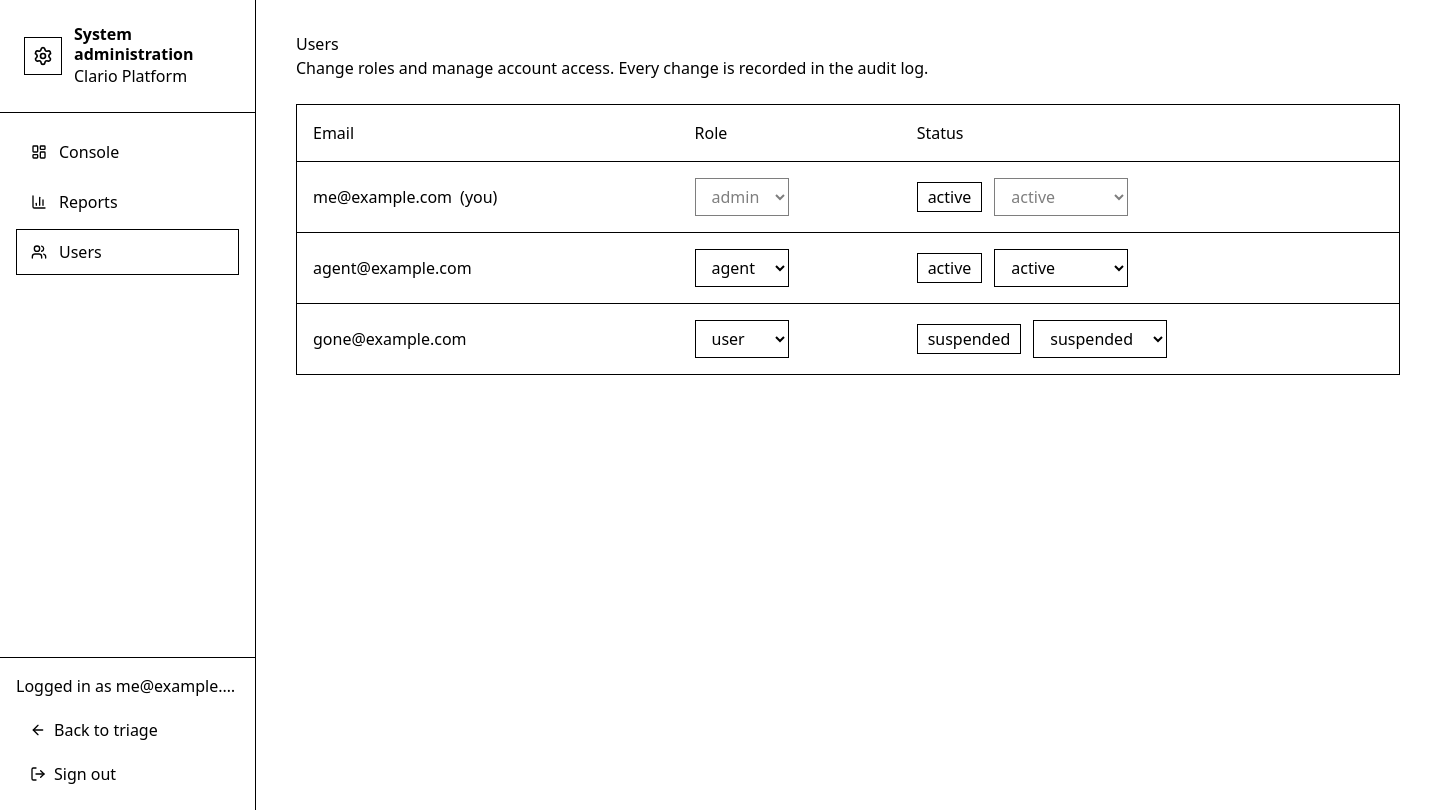
Test case: Admin users page (FR-042 / FR-043) › shows the server rejection (A1) and leaves the list unchanged
Select "user" in the 1st dropdown named "Role for agent@example.com": (742, 268) [694, 249, 788, 287]
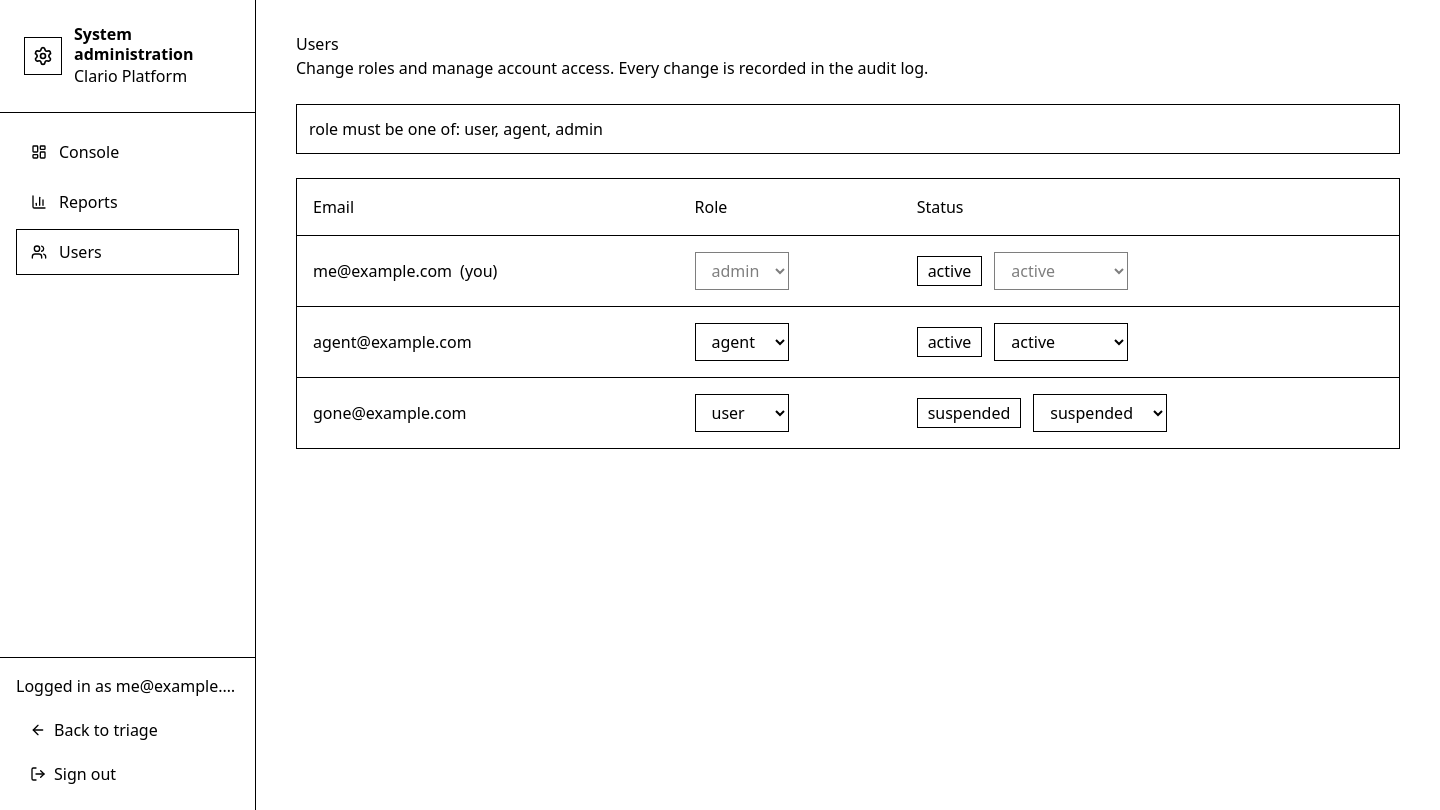
Now the message shows "role must be one of", box [309, 118, 603, 140]
